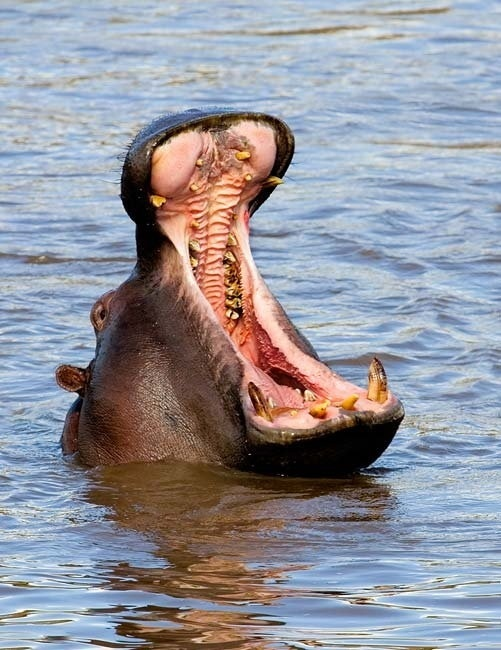hipopotamo: (46, 68, 432, 528)
